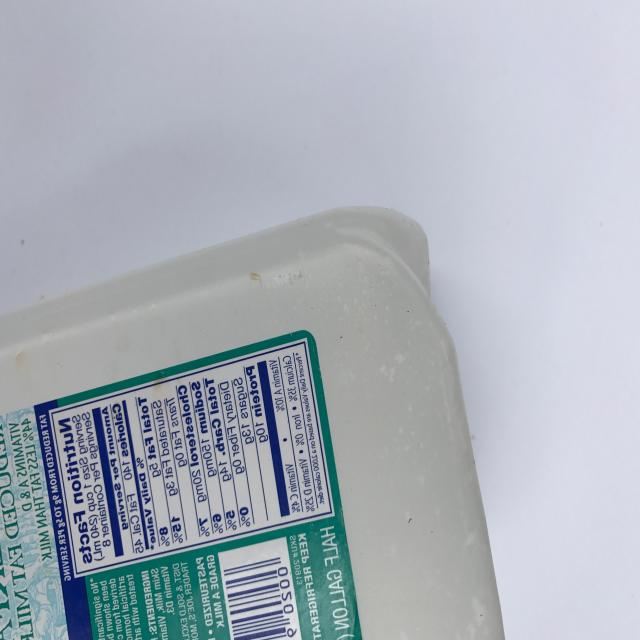plastic: (0, 204, 509, 640)
